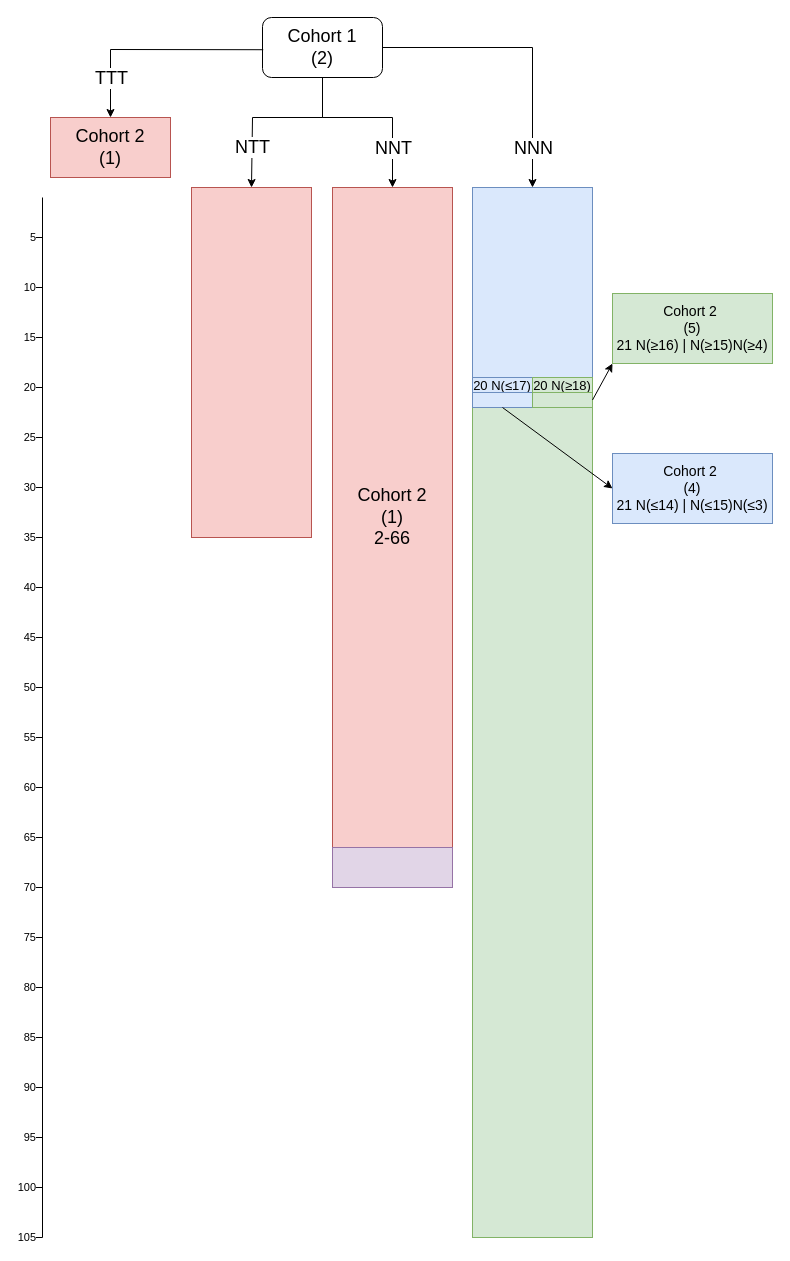
Image size: 790x1261. Some labels were removed from this diagram. Here are the shapes that lost their labels. From the top down, the centre of each, then its label:
point 532,282: Cohort 2 (4) 2-19
point 251,362: Cohort 2 (1) 1-35
point 532,822: Cohort 2 (5) 22-105
point 392,867: Cohort 2 (2) 67-70
